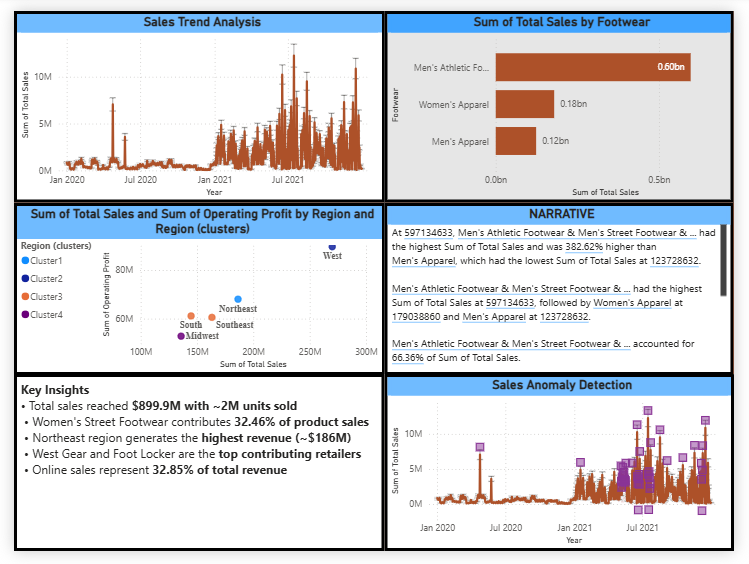

The page's visual inventory and layout, read from the dashboard file:
{"tool":"powerbi","page":{"name":"Sales_Analysis 2","canvas":[960,720],"ordinal":4},"visuals":[{"type":"lineChart","title":"Sales Trend Analysis","fields":{"Y":["Sum(Table 1 (Data Sales Adidas).Total Sales)"],"Category":["Table 1 (Data Sales Adidas).Invoice Date.Variation.Date Hierarchy.Year","Table 1 (Data Sales Adidas).Invoice Date.Variation.Date Hierarchy.Quarter","Table 1 (Data Sales Adidas).Invoice Date.Variation.Date Hierarchy.Month","Table 1 (Data Sales Adidas).Invoice Date.Variation.Date Hierarchy.Day"]},"box":[0,0,494.5,255.4],"z":0},{"type":"lineChart","title":"Sales Anomaly Detection","fields":{"Y":["Sum(Table 1 (Data Sales Adidas).Total Sales)"],"Category":["Table 1 (Data Sales Adidas).Invoice Date.Variation.Date Hierarchy.Year","Table 1 (Data Sales Adidas).Invoice Date.Variation.Date Hierarchy.Quarter","Table 1 (Data Sales Adidas).Invoice Date.Variation.Date Hierarchy.Month","Table 1 (Data Sales Adidas).Invoice Date.Variation.Date Hierarchy.Day"]},"box":[494,484,466,236],"z":1000},{"type":"scatterChart","fields":{"X":["Sum(Table 1 (Data Sales Adidas).Total Sales)"],"Y":["Sum(Table 1 (Data Sales Adidas).Operating Profit)"],"Category":["Table 1 (Data Sales Adidas).Region"],"Series":["Table 1 (Data Sales Adidas).Region (clusters)"]},"box":[0,255.4,494.5,229.3],"z":2000},{"type":"barChart","fields":{"Category":["Table 1 (Data Sales Adidas).Footwear"],"Y":["Sum(Table 1 (Data Sales Adidas).Total Sales)"]},"box":[494.5,0,465.2,255.4],"z":3000},{"type":"textbox","title":"NARRATIVE ","box":[494.5,255.4,465.2,229.3],"z":4000},{"type":"textbox","box":[0,484,494,236],"z":4001}]}

Visuals, with their boxes in screenshot pixels (x1, y1, x2, y2), scaled from the page's 960x720 canvas onto the 749x564 screenshot:
"Sales Trend Analysis" lineChart: 0:0:386:200
"Sales Anomaly Detection" lineChart: 385:379:748:563
scatterChart - Sum(Table 1 (Data Sales Adidas).Total Sales) x Sum(Table 1 (Data Sales Adidas).Operating Profit): 0:200:386:380
barChart - Table 1 (Data Sales Adidas).Footwear x Sum(Table 1 (Data Sales Adidas).Total Sales): 386:0:748:200
"NARRATIVE " textbox: 386:200:748:380
textbox: 0:379:385:563
